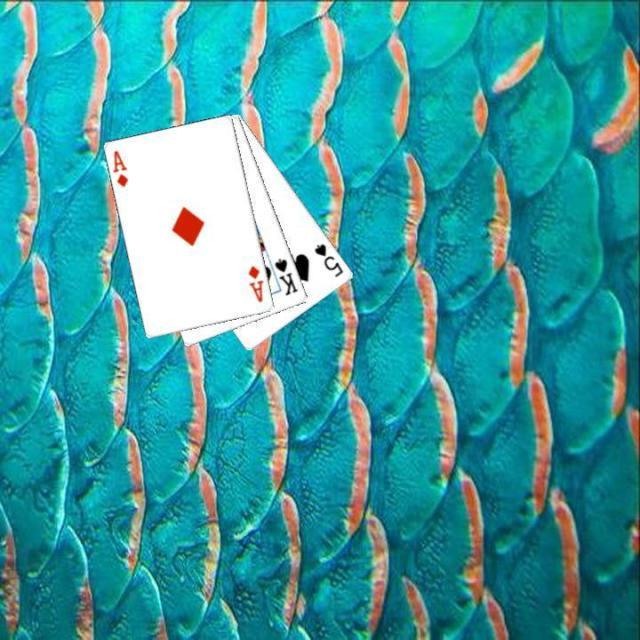5S: (311, 240, 345, 279)
AD: (244, 262, 266, 304), (110, 147, 130, 189)
KS: (271, 254, 301, 297)
